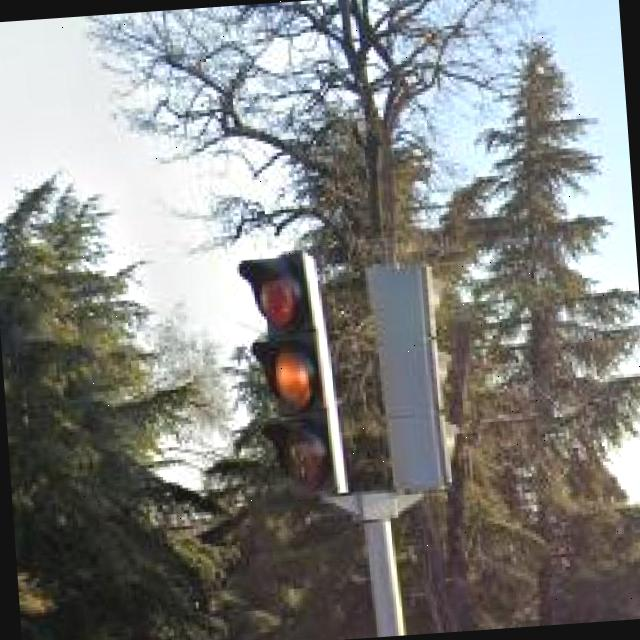yellow_light: (256, 252, 326, 497)
